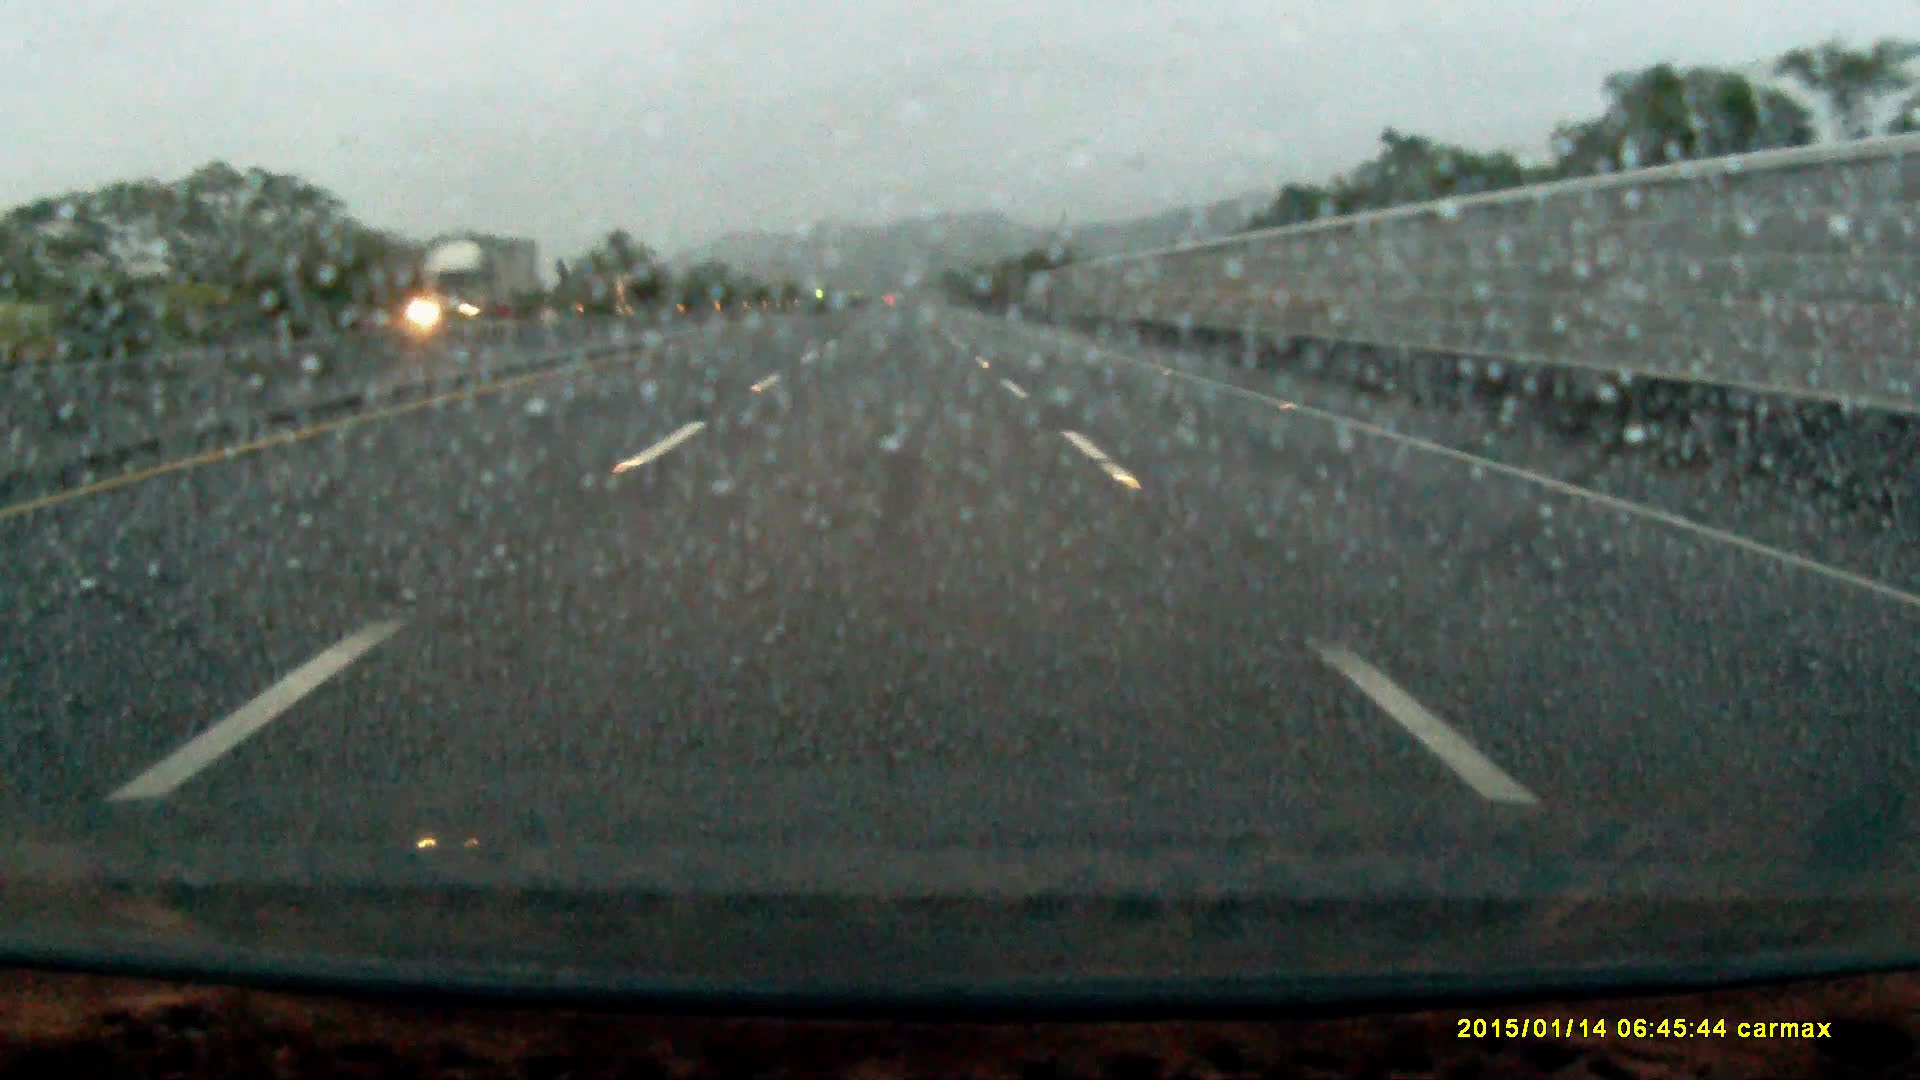vehicle: (410, 237, 545, 320)
